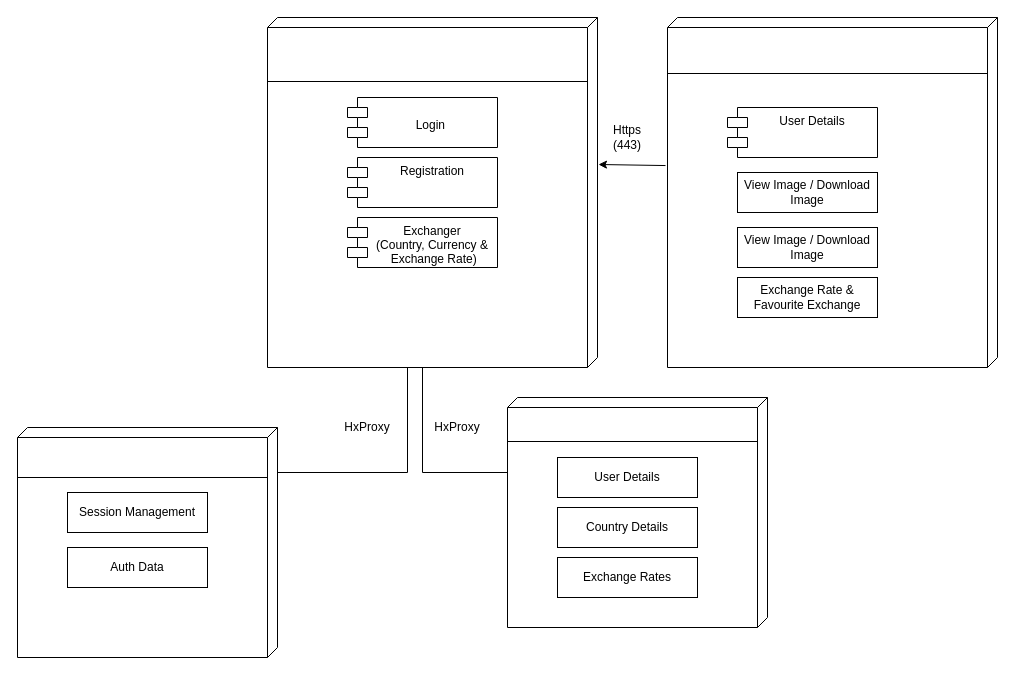
Some shapes in this 1015 by 675 pixel diagram are drawn without their labels. The box of each missing label's shape, as (x1, y1, x2, y2) in pixels:
<<AWS Elastic Cahce (Redis)>>: (16, 426, 278, 658)
<<AWS RDS (MySql)>>: (506, 396, 768, 628)
<<Client Web Browser>>: (666, 16, 998, 368)
<<Web Application>> Applicate Hosted in AWS: (266, 16, 598, 368)
